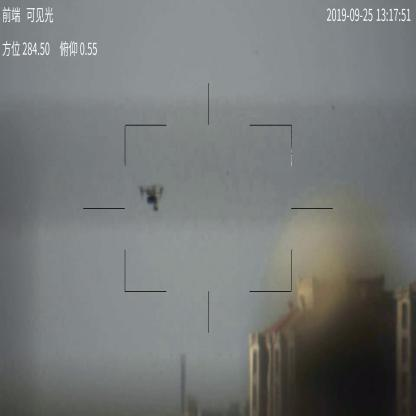uav: (140, 181, 165, 214)
